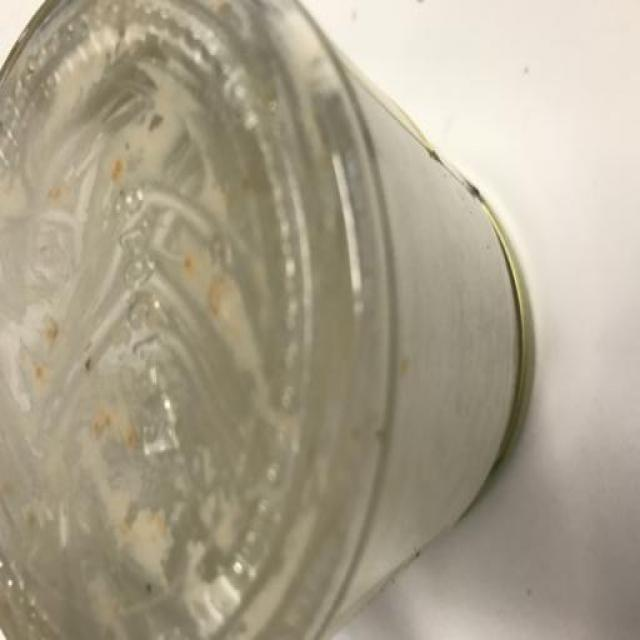Waste: (0, 2, 536, 638)
